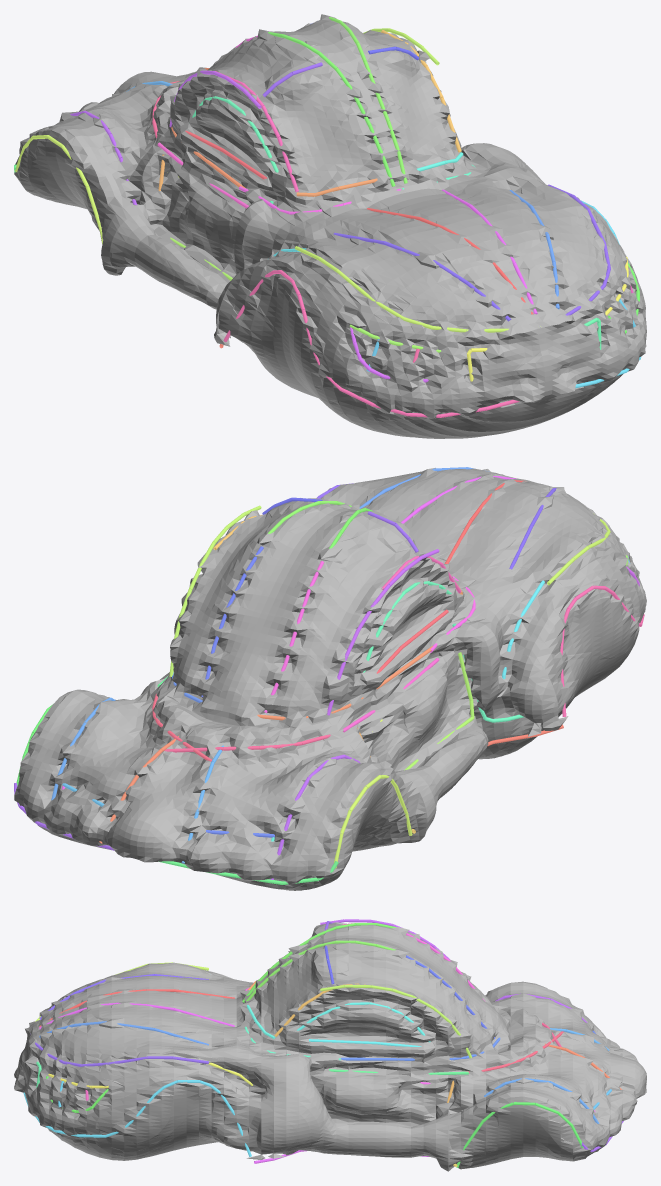
The model's file is author1_car.gltf.
The picture shows the model from 3 angles, top to bottom: view 1: azimuth 30°, elevation 25°; view 2: azimuth 150°, elevation 25°; view 3: azimuth 270°, elevation 25°; orthographic projection. The views are drawn at different scales.
Bounding box in the file's own units: 0.435 × 0.325 × 0.8873.
